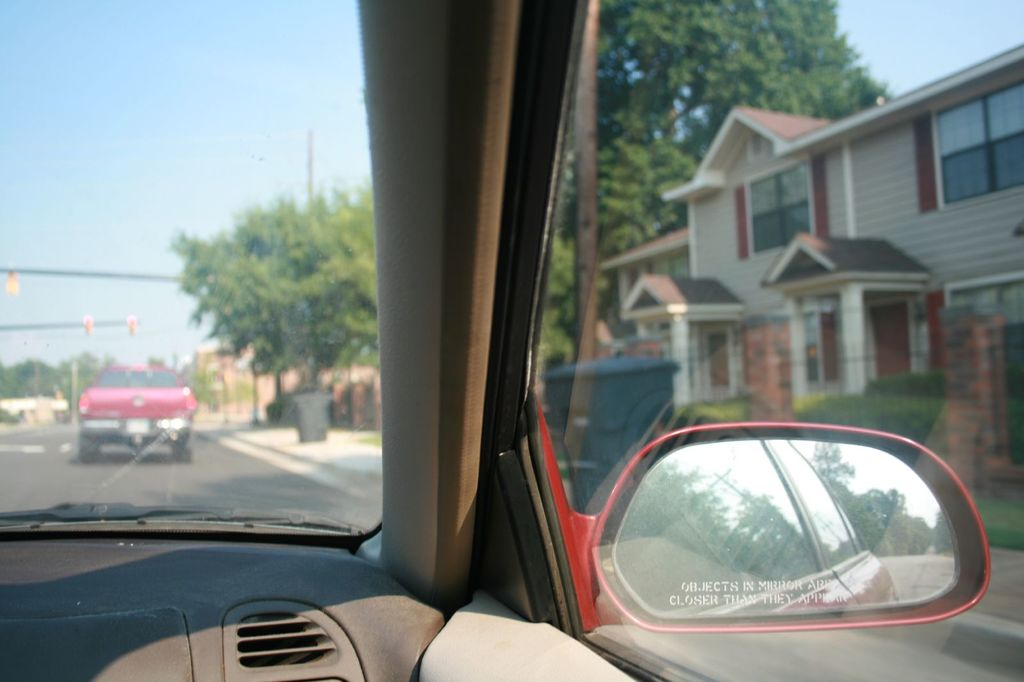Tree: (532, 0, 896, 376), (152, 165, 375, 417)
